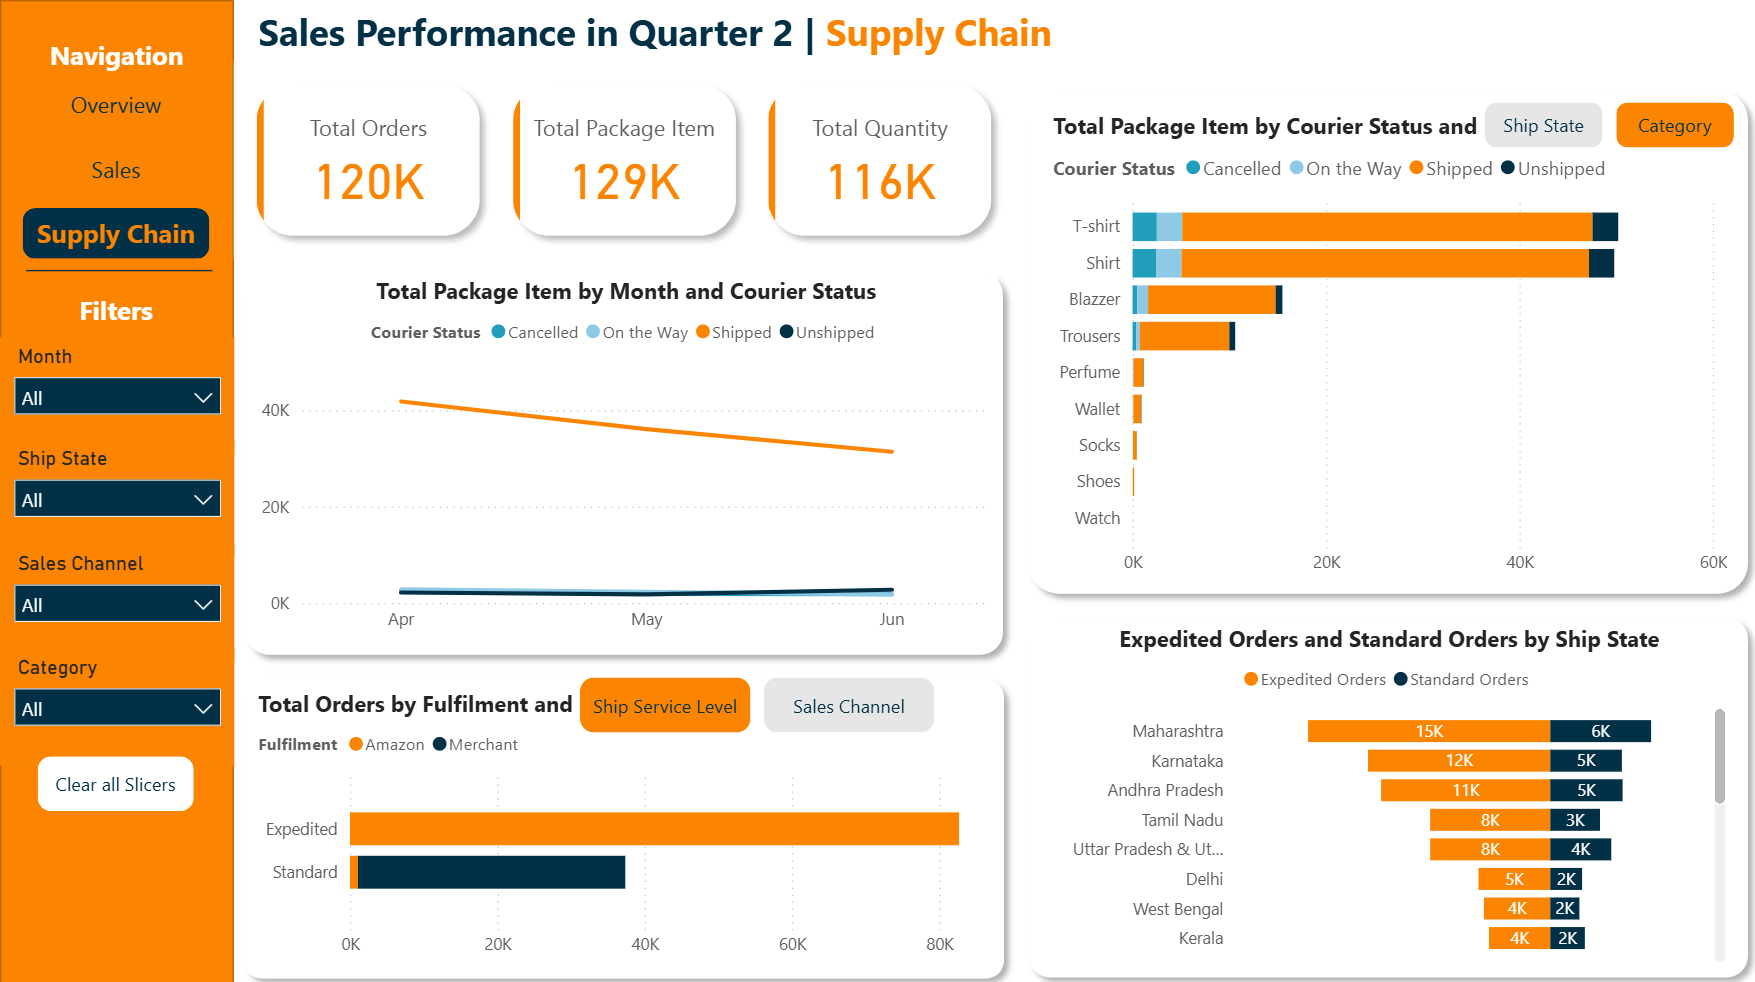

This screenshot's page, from the dashboard's own definition file:
{"tool":"powerbi","page":{"name":"Supply Chain","canvas":[1280,720],"ordinal":2},"visuals":[{"type":"shape","box":[0,0,170.2,720.4],"z":0},{"type":"barChart","title":"Total Package Item by Courier Status and","fields":{"Category":["Amazon_Sale.Category"],"Y":["Measure.Total Package Item"],"Series":["Amazon_Sale.Courier Status"]},"box":[761.1,79.4,500,347.2],"z":0,"group":"g1"},{"type":"slicer","fields":{"Values":["Date Dimension.Month Name"]},"box":[0,245.8,170.4,84.6],"z":0,"group":"g3"},{"type":"barChart","title":"Total Orders by Fulfilment and","fields":{"Category":["Amazon_Sale.Sales Channel"],"Series":["Amazon_Sale.Fulfilment"],"Y":["Measure.Total Orders"]},"box":[182,500.1,542.4,205.3],"z":0,"group":"g2"},{"type":"textbox","box":[182.5,0,714.9,54.9],"z":1000},{"type":"actionButton","box":[1175.5,74.4,85.6,32.8],"z":1000,"group":"g1"},{"type":"slicer","fields":{"Values":["Amazon_Sale.Ship State"]},"box":[0,320.4,170.4,84.6],"z":1000,"group":"g3"},{"type":"actionButton","box":[421.1,492.7,124,40],"z":1000,"group":"g2"},{"type":"cardVisual","fields":{"Data":["Measure.Total Orders","Measure.Total Shipment Line","Measure.Total Quantity"]},"box":[170.4,44.8,568.5,144.3],"z":2000},{"type":"actionButton","box":[1080.5,74.4,85.6,32.8],"z":2000,"group":"g1"},{"type":"slicer","fields":{"Values":["Amazon_Sale.Sales Channel"]},"box":[0,396.3,170.4,84.6],"z":2000,"group":"g3"},{"type":"actionButton","box":[555.1,492.7,124,40],"z":2000,"group":"g2"},{"type":"shape","box":[738.9,56,541.1,384.4],"z":3000},{"type":"slicer","fields":{"Values":["Amazon_Sale.Category"]},"box":[0,472.2,170.4,84.6],"z":3000,"group":"g3"},{"type":"shape","box":[170.4,189.1,568.5,296.1],"z":4000},{"type":"shape","box":[167.9,485.1,571,235.1],"z":5000},{"type":"shape","box":[738.9,440.4,541.1,279.9],"z":6000},{"type":"lineChart","title":"Total Package Item by Month and Courier Status","fields":{"Category":["Date Dimension.Month Name"],"Y":["Measure.Total Package Item"],"Series":["Amazon_Sale.Courier Status"]},"box":[185.3,200.3,539.9,268.7],"z":7000},{"type":"group","id":"g1","title":"G1_Category","box":[761.1,74.4,500,352.2],"z":9000},{"type":"group","id":"g2","title":"G2_Sales Channel","box":[182,492.7,542.7,212.7],"z":11000},{"type":"pageNavigator","title":"Navigation","box":[16.2,27.4,136.8,161.7],"z":12000},{"type":"actionButton","box":[34.8,205.3,99.5,39.8],"z":13000},{"type":"shape","box":[18.7,167.9,135.6,57.2],"z":14000},{"type":"group","id":"g3","title":"Slicers","box":[0,245.8,170.6,310.9],"z":15000},{"type":"actionButton","box":[27.5,550,113.8,40],"z":16000},{"type":"barChart","title":"Expedited Orders and Standard Orders by Ship State","fields":{"Category":["Amazon_Sale.Ship State"],"Y":["Measure.Expedited Orders","Measure.Standard Orders"]},"box":[760.8,452.5,499.2,252.5],"z":17001}]}

Visuals, with their boxes in screenshot pixels (x1, y1, x2, y2), scaled from the page's 1280x720 canvas onto the 1755x982 screenshot:
shape: box(0, 0, 233, 981)
"Total Package Item by Courier Status and" barChart: box(1044, 108, 1729, 582)
slicer - Date Dimension.Month Name: box(0, 335, 234, 451)
"Total Orders by Fulfilment and" barChart: box(250, 682, 993, 962)
textbox: box(250, 0, 1230, 75)
actionButton: box(1612, 101, 1729, 146)
slicer - Amazon_Sale.Ship State: box(0, 437, 234, 552)
actionButton: box(577, 672, 747, 727)
cardVisual - Measure.Total Orders x Measure.Total Shipment Line: box(234, 61, 1013, 258)
actionButton: box(1481, 101, 1599, 146)
slicer - Amazon_Sale.Sales Channel: box(0, 541, 234, 656)
actionButton: box(761, 672, 931, 727)
shape: box(1013, 76, 1754, 601)
slicer - Amazon_Sale.Category: box(0, 644, 234, 759)
shape: box(234, 258, 1013, 662)
shape: box(230, 662, 1013, 981)
shape: box(1013, 601, 1754, 981)
"Total Package Item by Month and Courier Status" lineChart: box(254, 273, 994, 640)
"G1_Category" group: box(1044, 101, 1729, 582)
"G2_Sales Channel" group: box(250, 672, 994, 962)
"Navigation" pageNavigator: box(22, 37, 210, 258)
actionButton: box(48, 280, 184, 334)
shape: box(26, 229, 212, 307)
"Slicers" group: box(0, 335, 234, 759)
actionButton: box(38, 750, 194, 805)
"Expedited Orders and Standard Orders by Ship State" barChart: box(1043, 617, 1728, 962)
